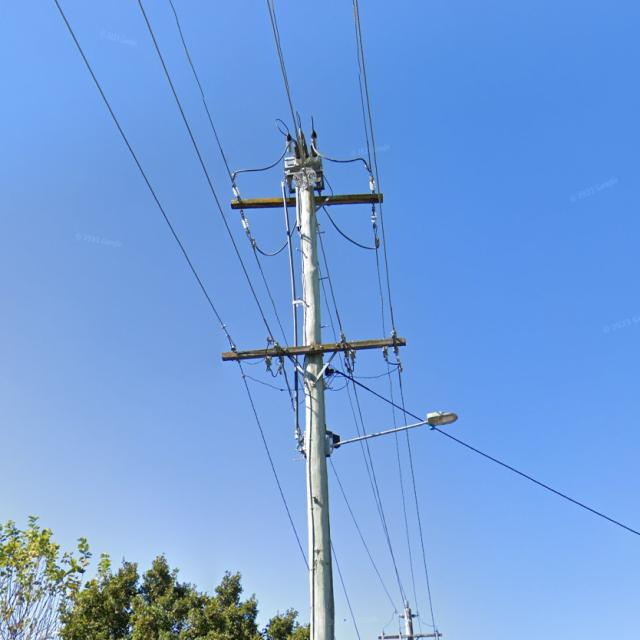HV-switch: (282, 127, 326, 194)
HV-transmission: (230, 164, 382, 250), (375, 599, 441, 640)
crossarm: (220, 336, 407, 362), (230, 192, 384, 211), (378, 632, 442, 640)
streetlight: (330, 411, 460, 448)
timber-pole: (296, 184, 336, 640)
